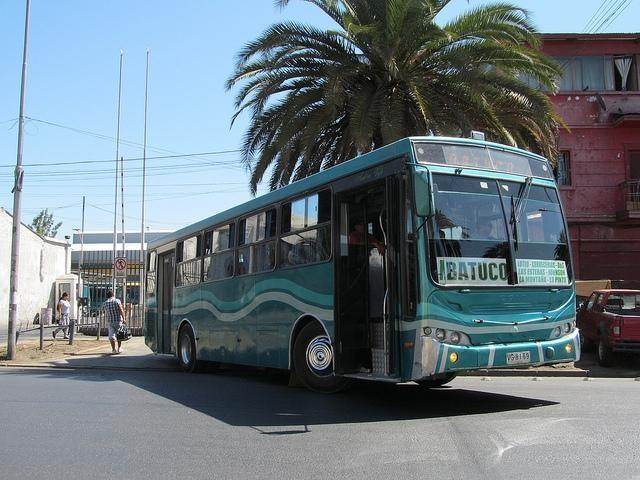bus: (142, 131, 580, 394)
truck: (576, 290, 639, 366)
